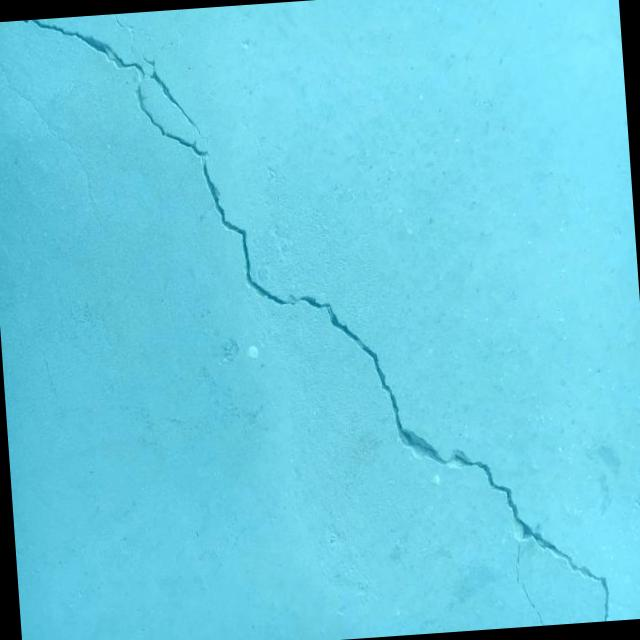crack: (23, 0, 611, 640), (0, 28, 88, 187), (514, 542, 545, 627)
